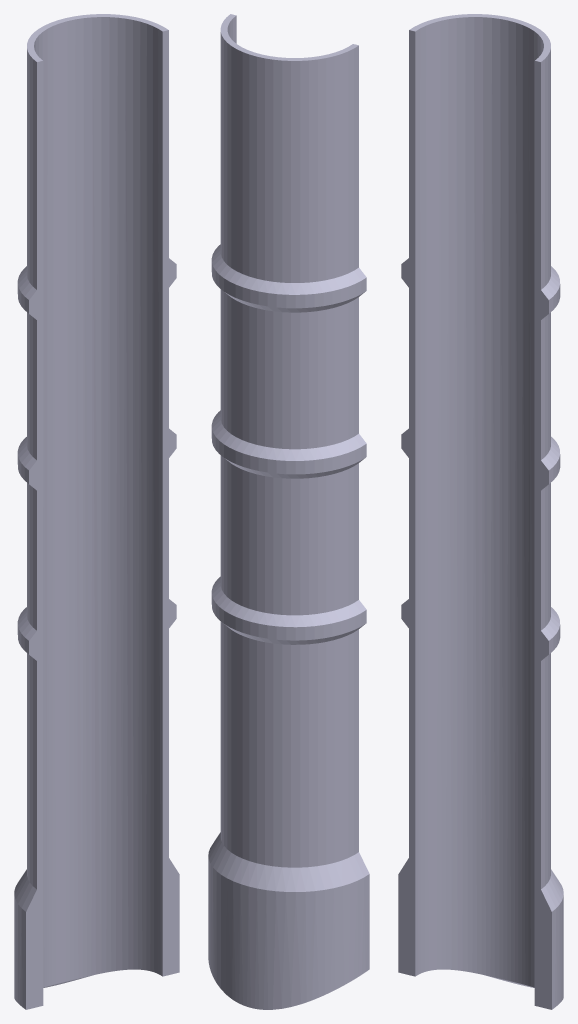
The model's file is PX15-cut1.glb.
The picture shows the model from 3 angles, left to right: view 1: azimuth 30°, elevation 25°; view 2: azimuth 150°, elevation 25°; view 3: azimuth 330°, elevation 25°; orthographic projection. The views are drawn at different scales.
Parts seen in each view (by area): view 1: null; view 2: null; view 3: null.
Boxes of the visible parts, box(x1,y1,x2,y2) form: null: box(14, 14, 179, 1009); null: box(208, 14, 369, 1009); null: box(398, 14, 563, 1009).
Bounding box in the file's own units: 11.7 × 70.67 × 5.85.
